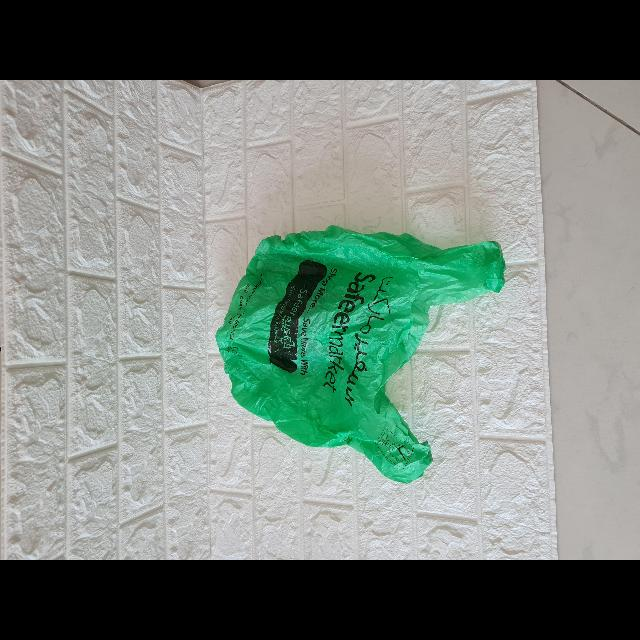sacola plástica: (219, 224, 505, 484)
